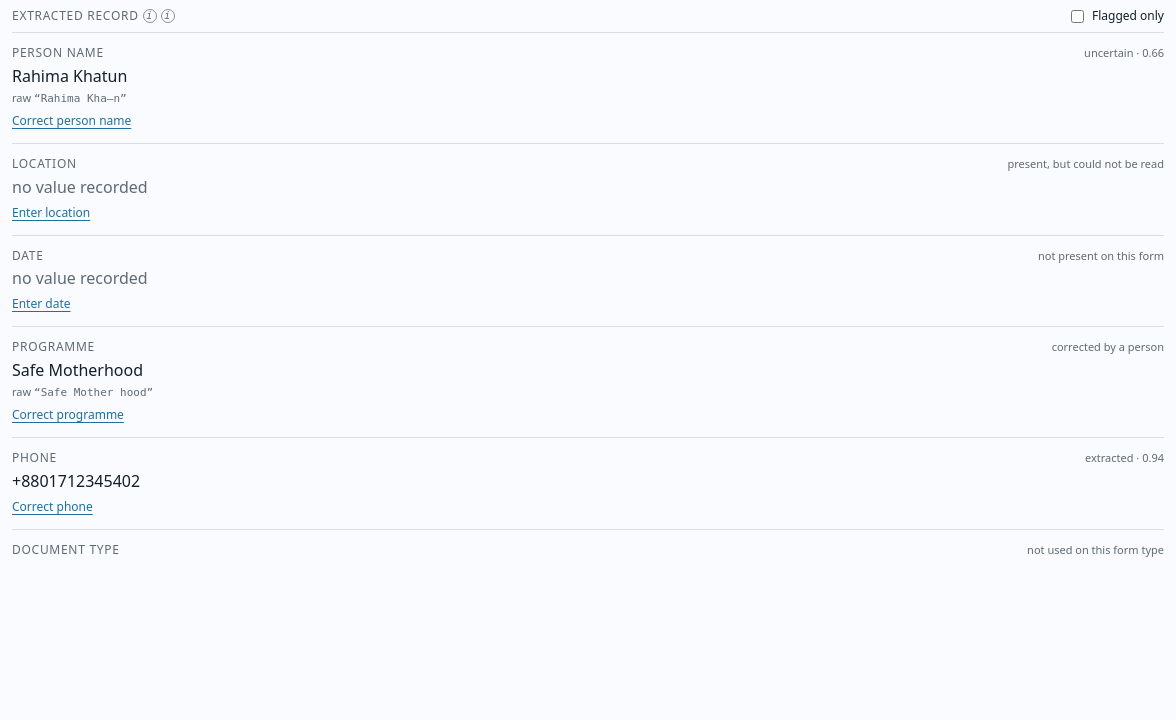
Scenario: FieldList › abandons an edit without reporting a correction
Step 1. Click the button "Correct person name" → (72, 121), box [12,113,131,129]
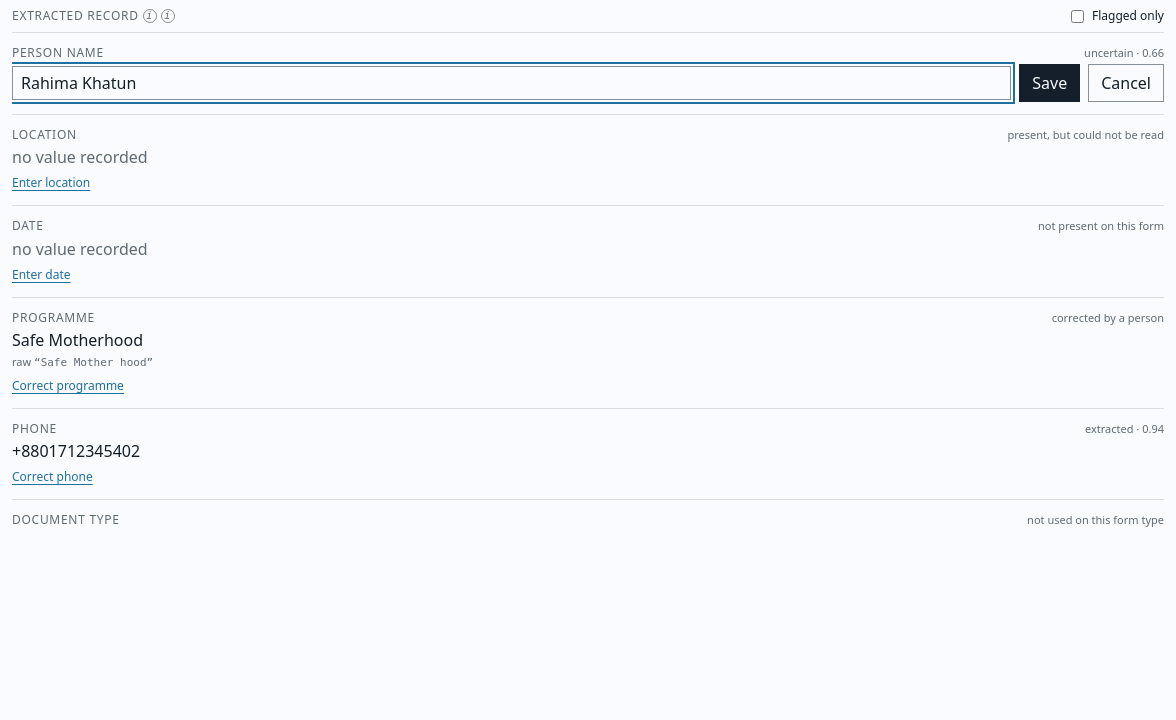
Step 2. Click the button "Cancel" → (1126, 82), box [1088,64,1164,102]
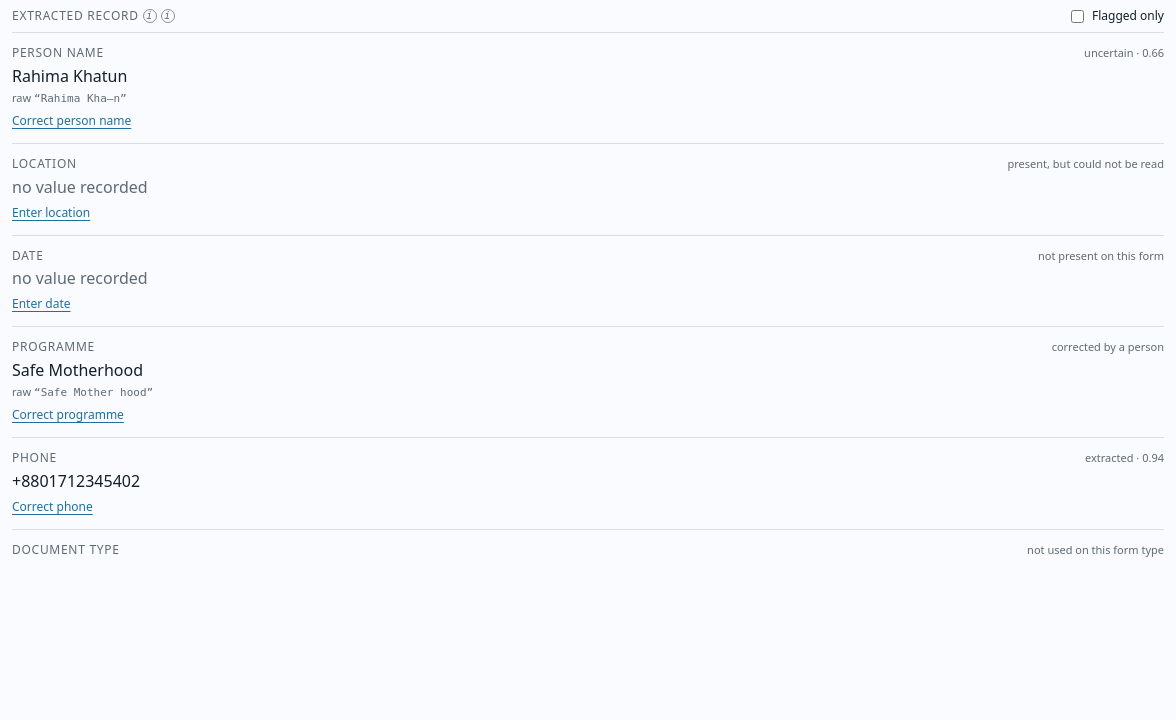
Expected: the field is gone
